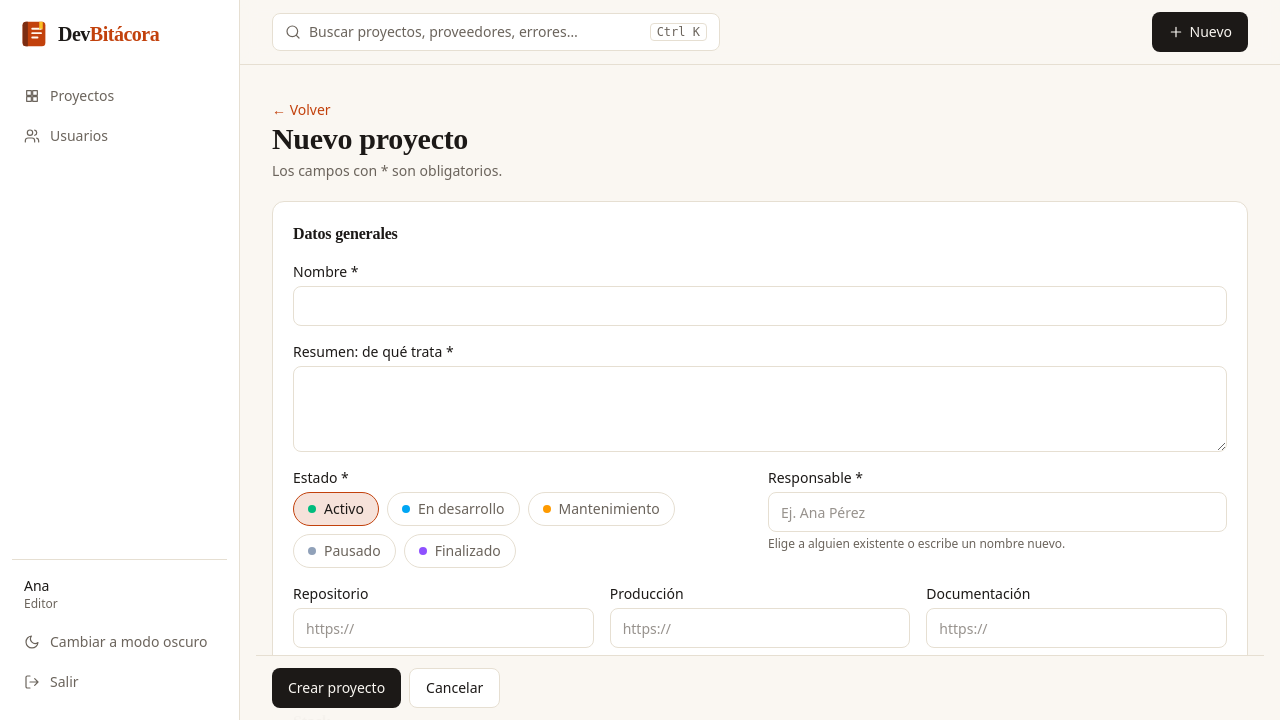
it: formulario de proyecto › valida los obligatorios, descarta filas vacías y envía el proyecto
Later steps or results of the test are not shown.
What coordinates should you click on to do the following:
click the button "Crear proyecto"
I would click on:
 (337, 688)
Its box is top-left (272, 668), bottom-right (401, 708).
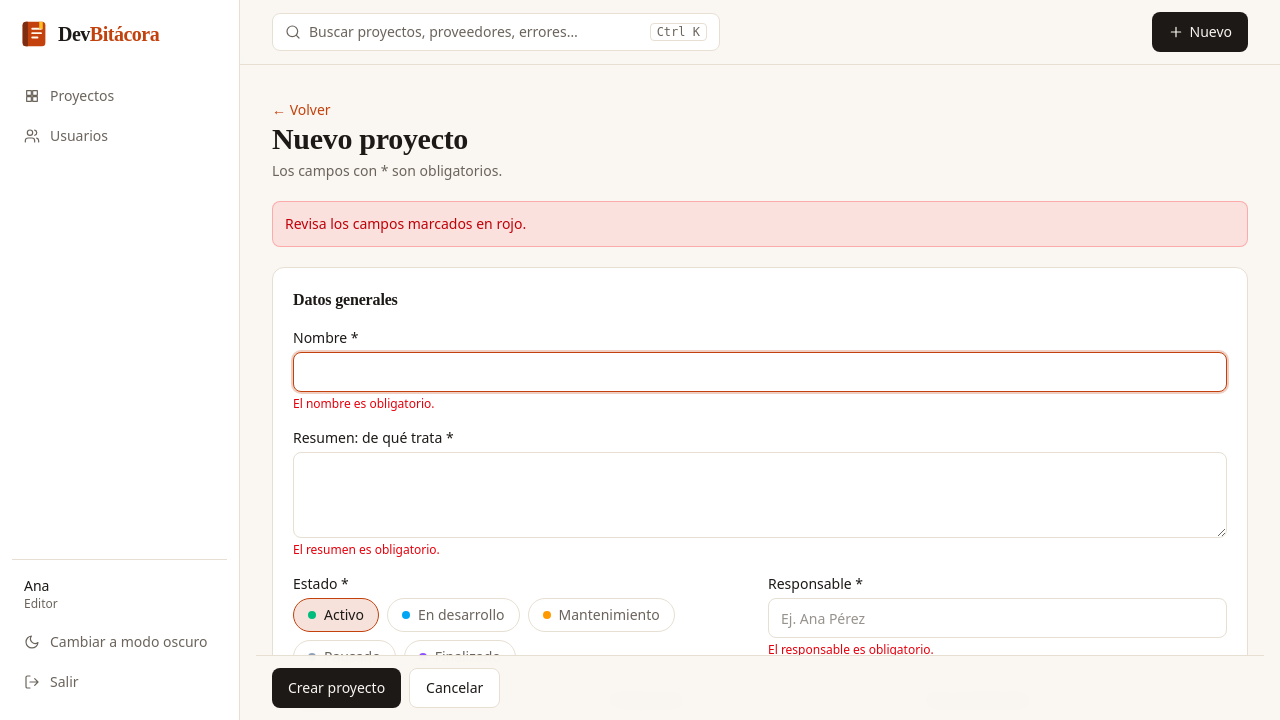
Expected: the text "El nombre es obligatorio." is shown, top-left (293, 395), bottom-right (434, 412)
Expected: the text "El resumen es obligatorio." is shown, top-left (293, 541), bottom-right (440, 558)
Expected: the text "El responsable es obligatorio." is shown, top-left (768, 641), bottom-right (934, 658)
